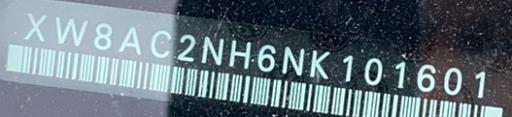letter: (52, 15, 90, 49), (19, 8, 51, 45), (277, 42, 309, 77), (116, 23, 146, 58), (225, 36, 255, 71), (308, 48, 338, 81), (148, 25, 176, 58), (174, 31, 200, 66), (200, 32, 226, 67), (441, 63, 467, 97), (254, 42, 280, 75), (414, 60, 438, 94), (91, 18, 115, 51), (468, 67, 490, 101), (363, 55, 385, 88), (336, 52, 356, 85), (391, 58, 407, 91)
